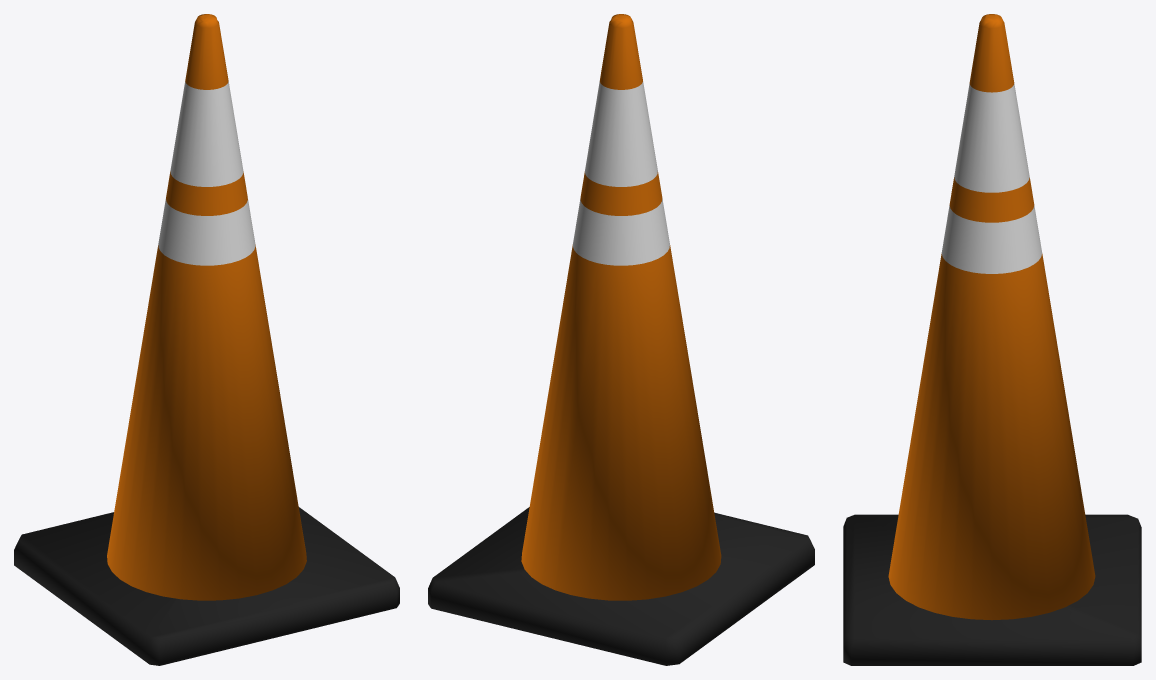
File: TrafficConeUnbroken.fbx
3 renders of one model, left to right at view 1: azimuth 30°, elevation 25°; view 2: azimuth 150°, elevation 25°; view 3: azimuth 270°, elevation 25°, orthographic. The views are drawn at different scales.
Parts seen in each view (by area): view 1: Cube; view 2: Cube; view 3: Cube.
Boxes of the visible parts, box(x1,y1,x2,y2) form: Cube: box(14, 14, 399, 665); Cube: box(428, 14, 814, 665); Cube: box(843, 14, 1141, 665).
Size of the model in its own units: 200 by 433 by 200.
